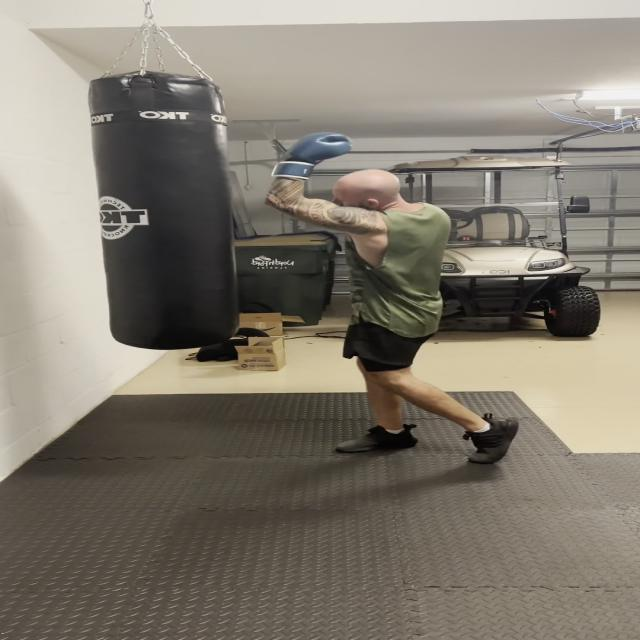bag: (82, 64, 232, 350)
uppercut: (250, 125, 450, 249)
